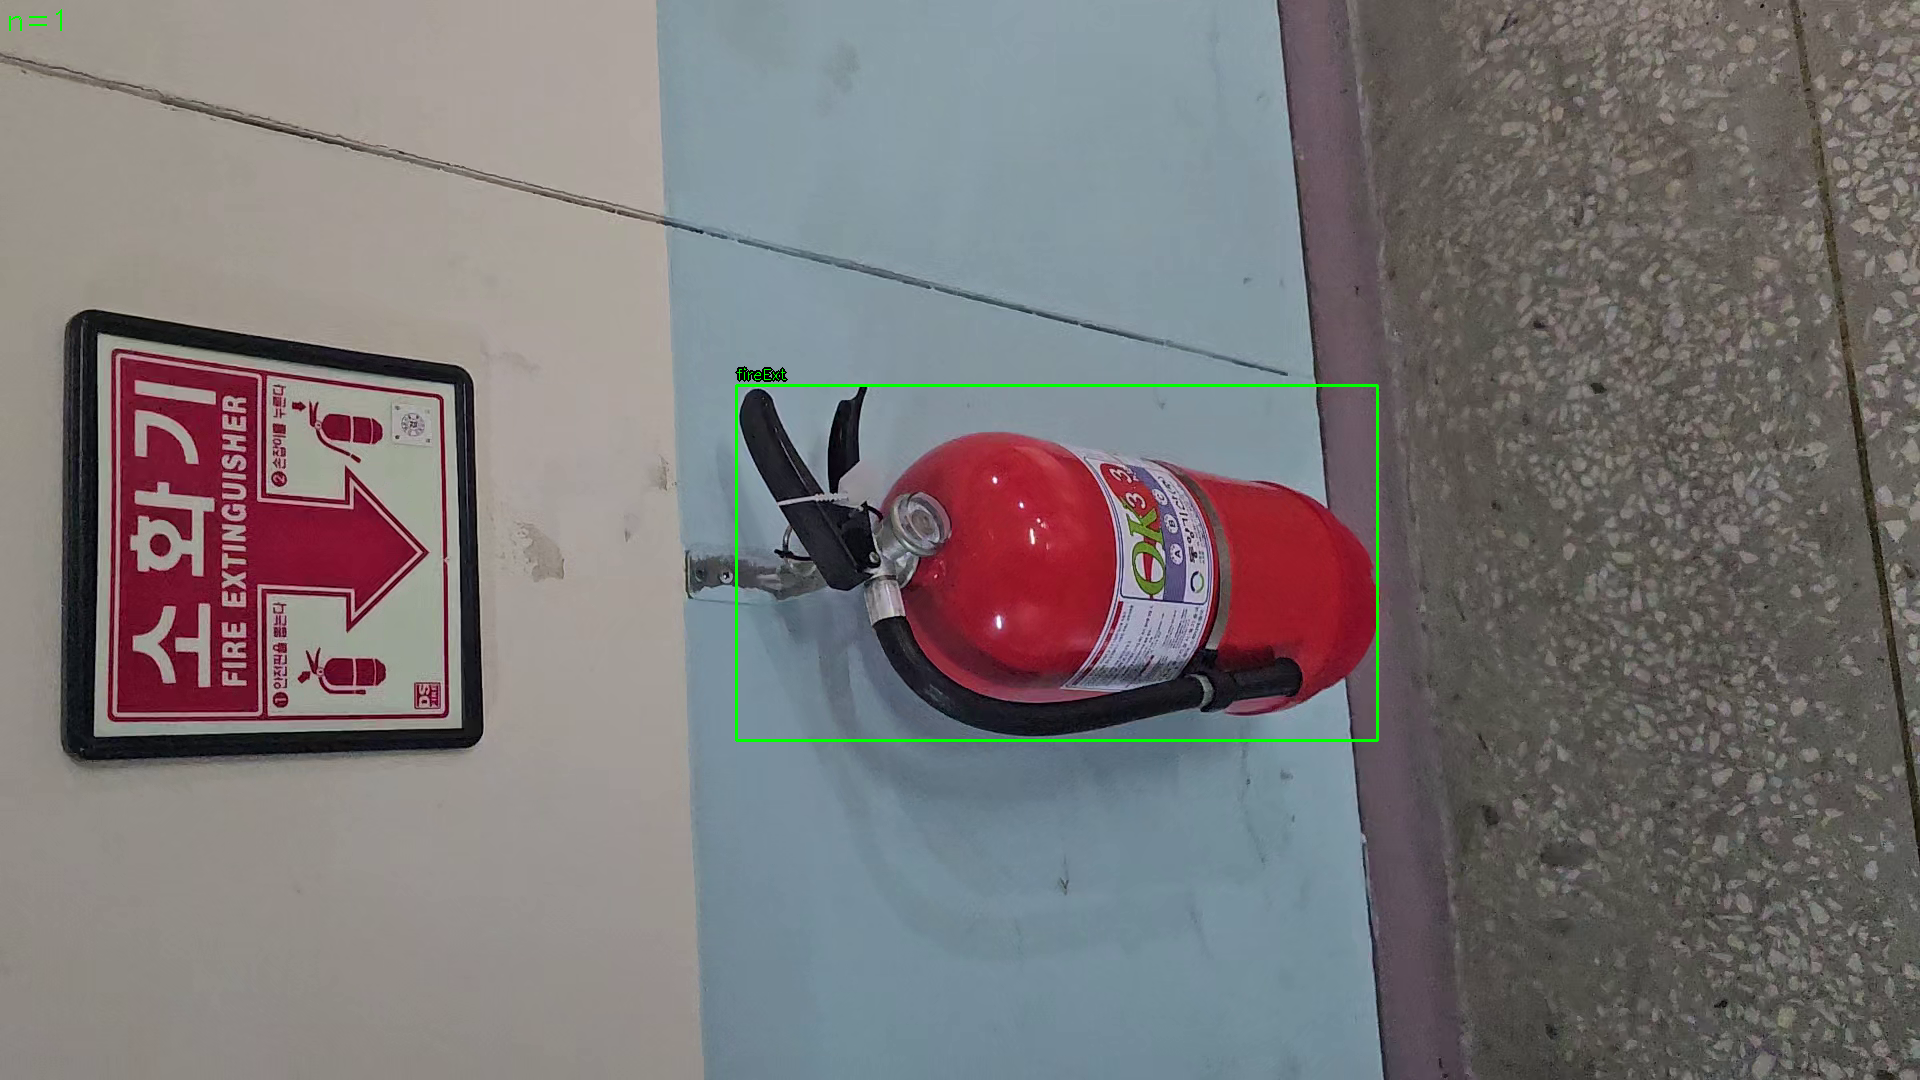lane: (736, 385, 1378, 741)
